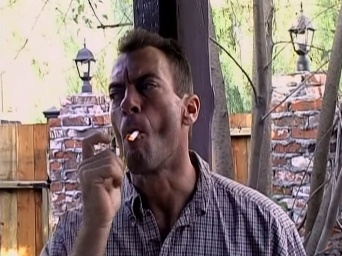smoke: (128, 128, 138, 143)
